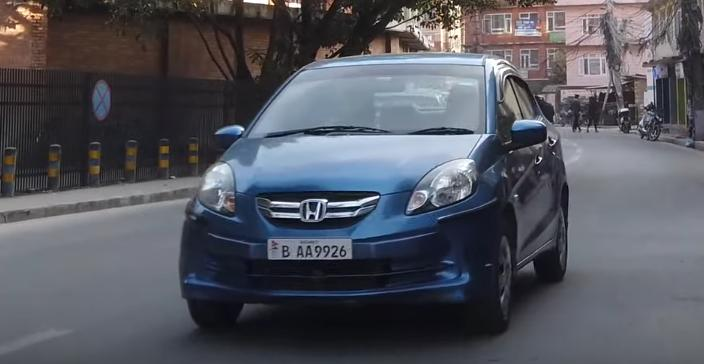bike: (635, 105, 663, 142)
car: (179, 55, 577, 333)
